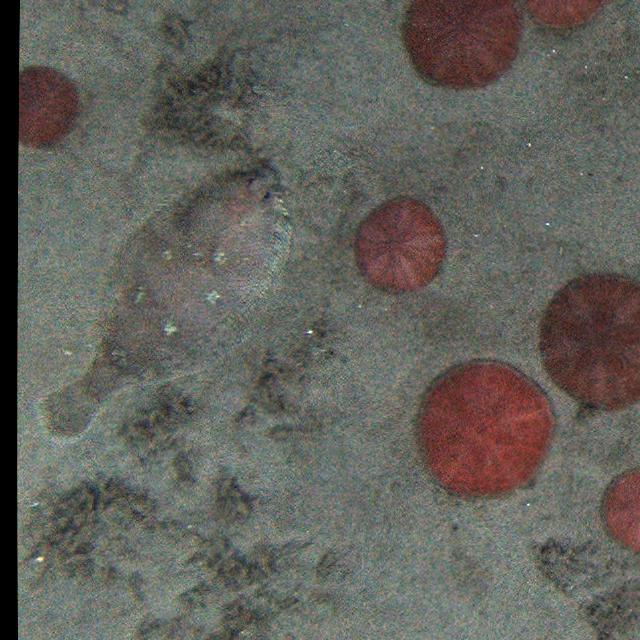flatfish: (44, 153, 294, 444)
